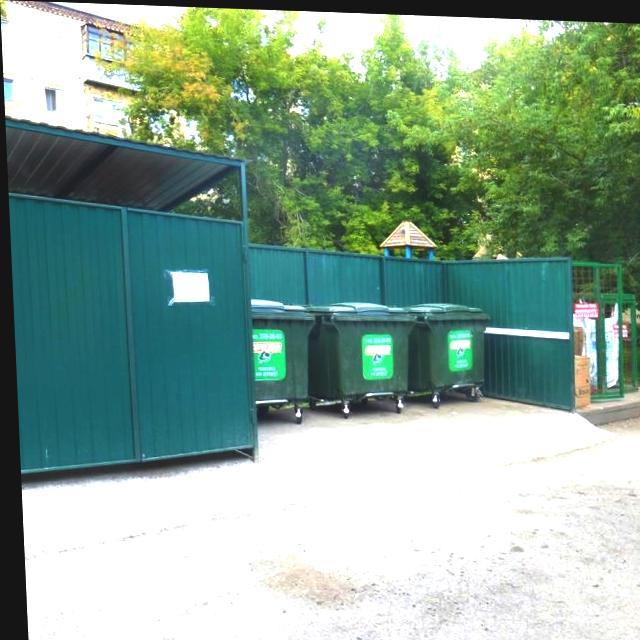Trash_Can_Closed: (303, 297, 414, 399), (404, 298, 486, 391), (248, 296, 315, 399)
